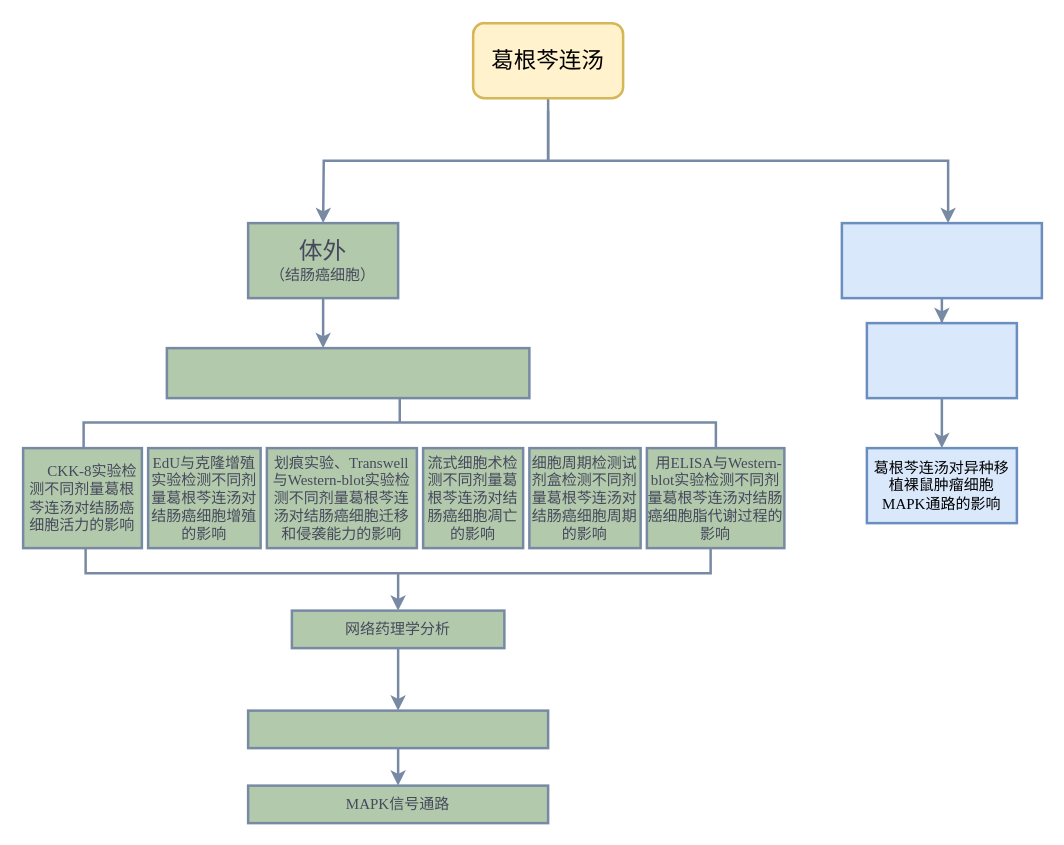
This 1064x845 diagram has some shape labels left out. The box of each missing label's shape, as (x1, y1, x2, y2) in pixels:
体内 （小鼠皮下异种移植模型）: (840, 221, 1042, 299)
对照组、低剂量组、中等剂量组、高剂量组: (165, 346, 530, 399)
葛根芩连汤对异移植裸鼠肿瘤生长、细胞凋亡的影响: (865, 321, 1018, 399)
葛根芩连汤对结肠癌细胞作用机制研究: (246, 709, 549, 749)
